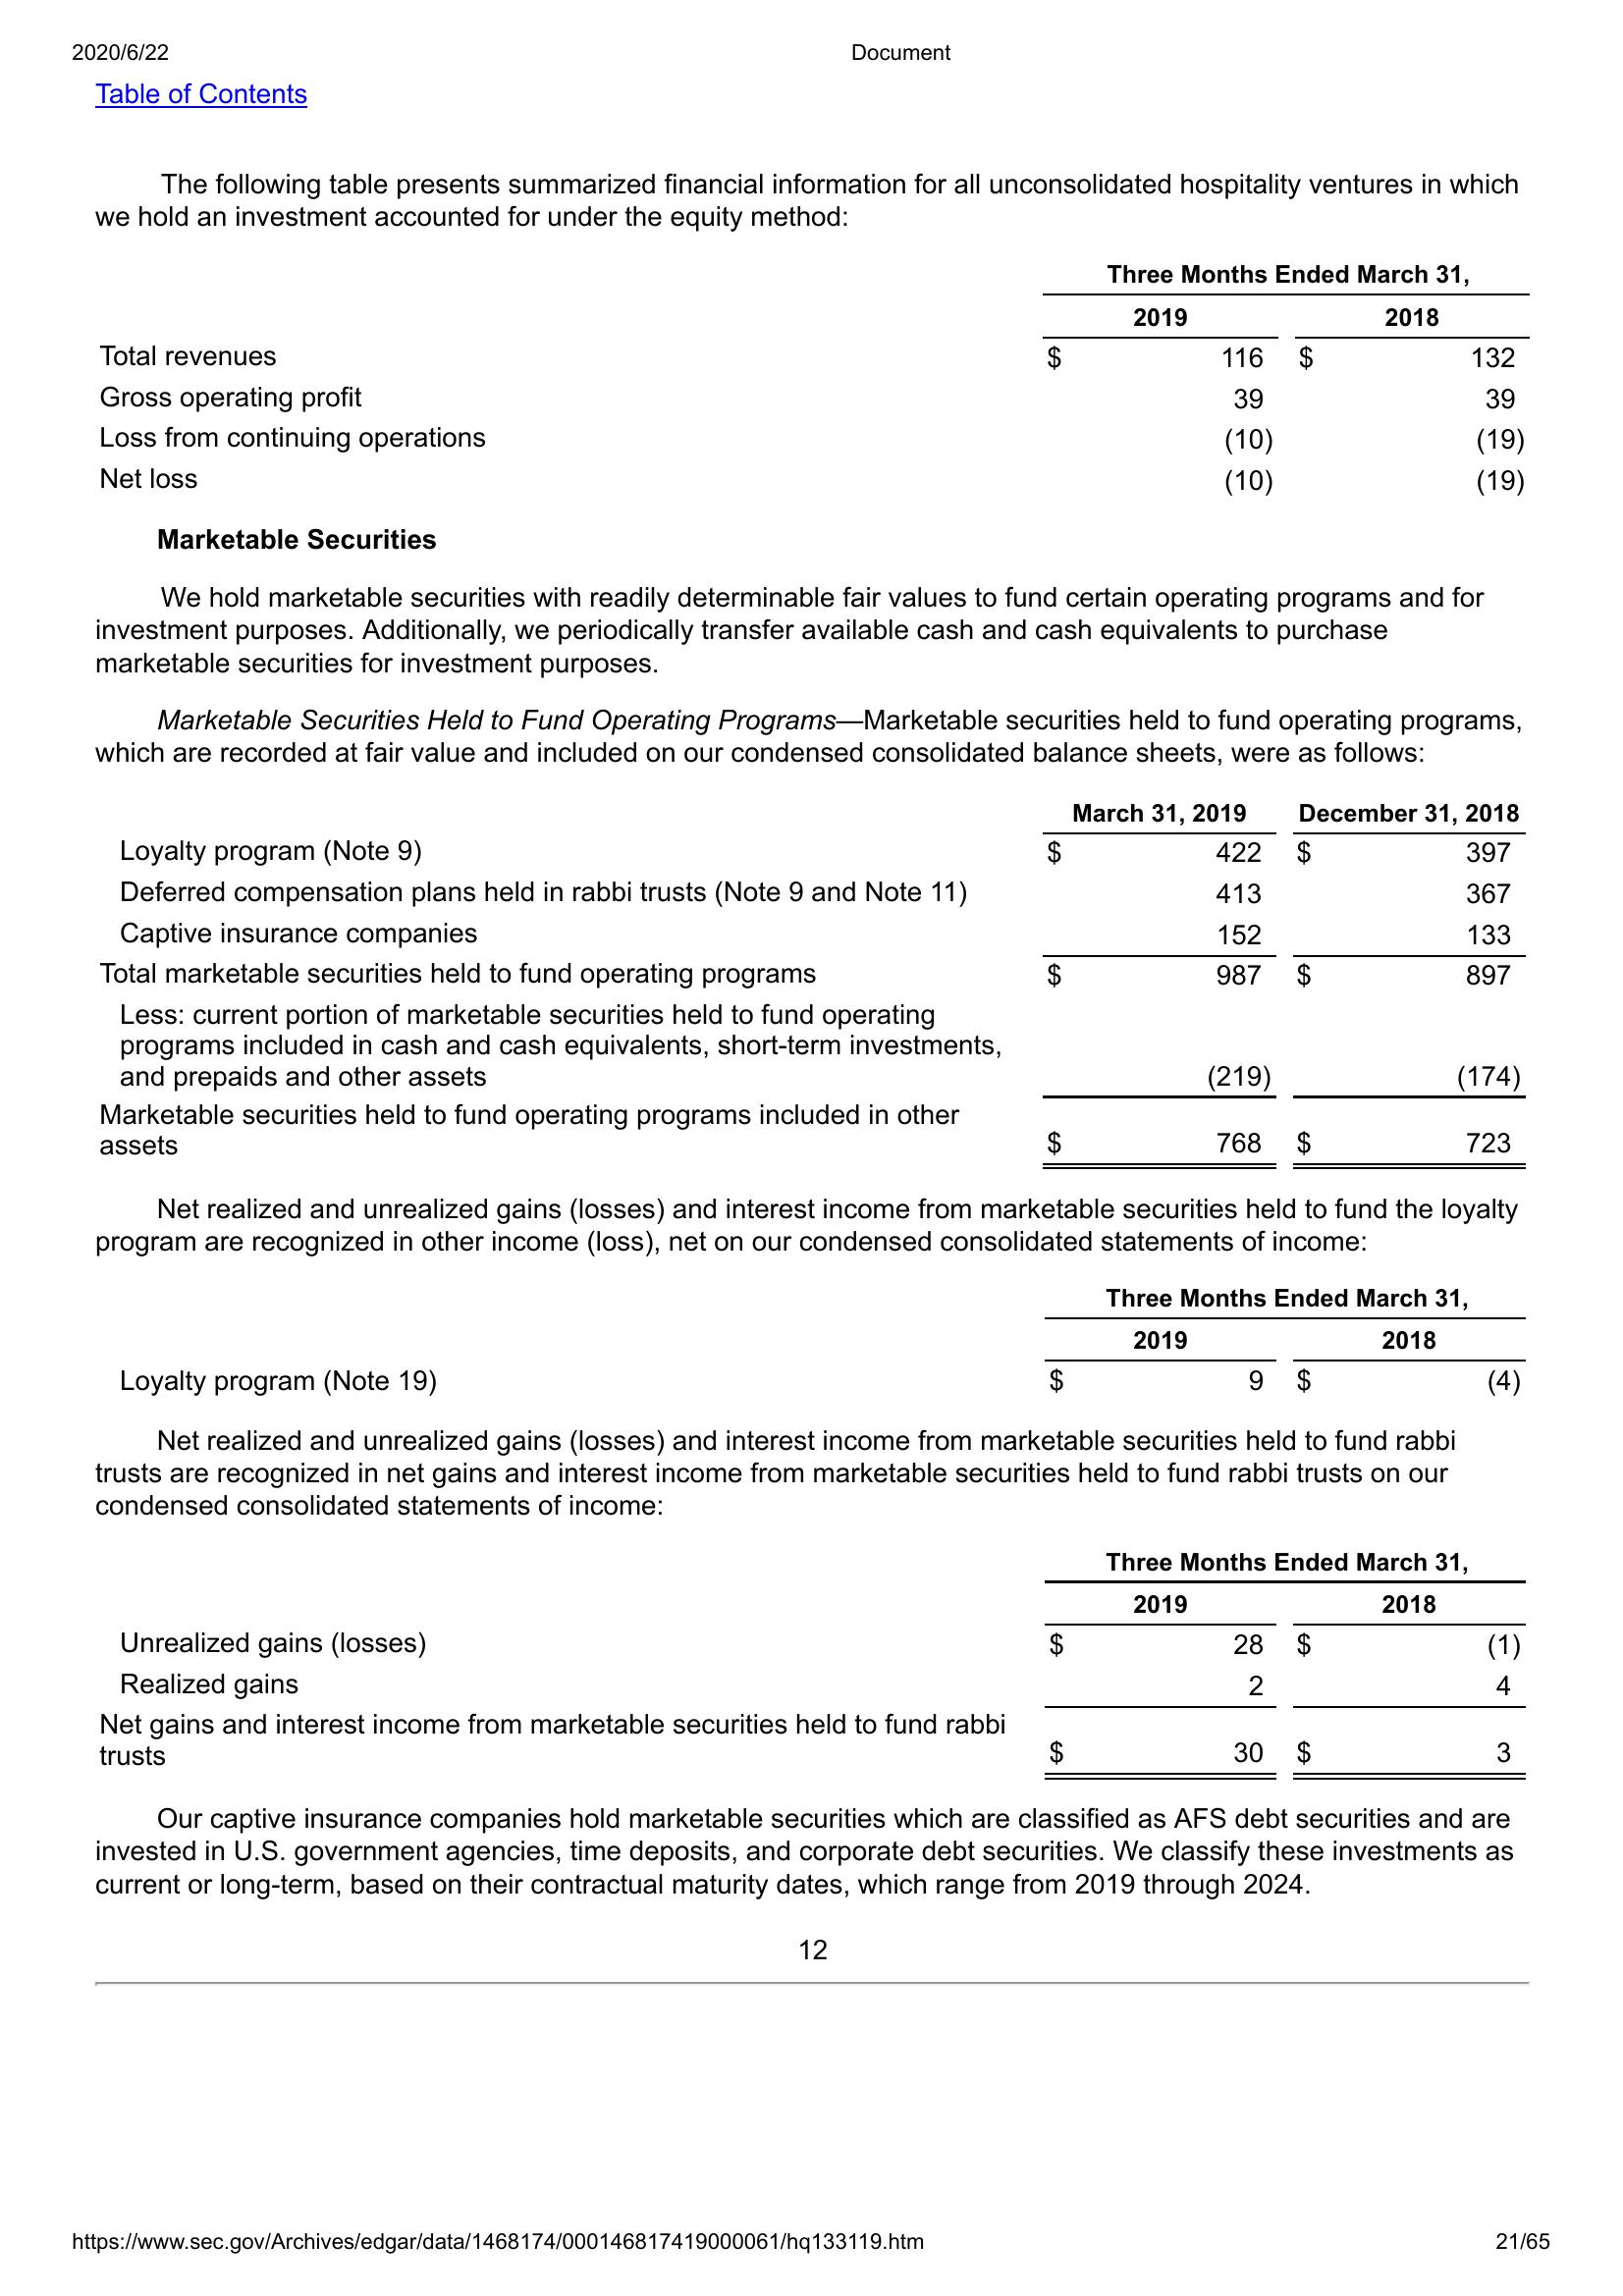table: (90, 788, 1530, 1180), (88, 258, 1539, 504), (88, 1543, 1533, 1789), (107, 1278, 1530, 1406)
